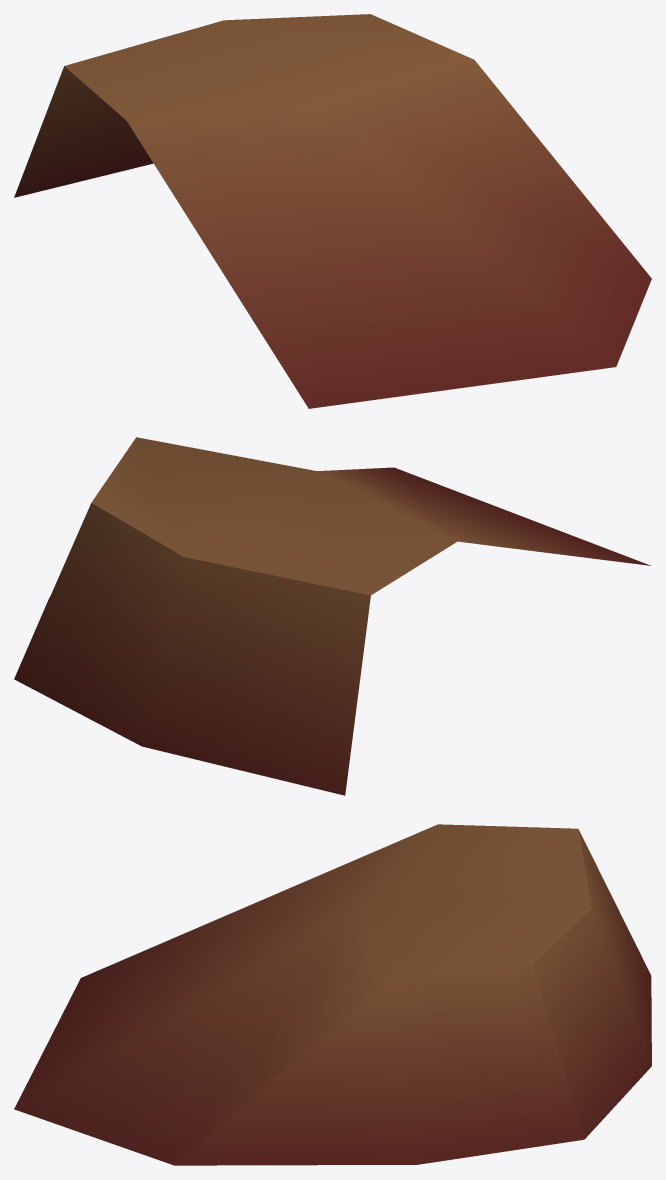
The picture shows the model from 3 angles, top to bottom: view 1: azimuth 30°, elevation 25°; view 2: azimuth 150°, elevation 25°; view 3: azimuth 270°, elevation 25°; orthographic projection. The views are drawn at different scales.
Parts seen in each view (by area): view 1: Cube.036; view 2: Cube.036; view 3: Cube.036.
Part boxes in pixels (box(x1,y1,x2,y2)): Cube.036: box(14, 14, 651, 408); Cube.036: box(14, 437, 650, 795); Cube.036: box(14, 824, 651, 1165).
Size of the model in its own units: 8.51 by 3.2 by 12.08.
